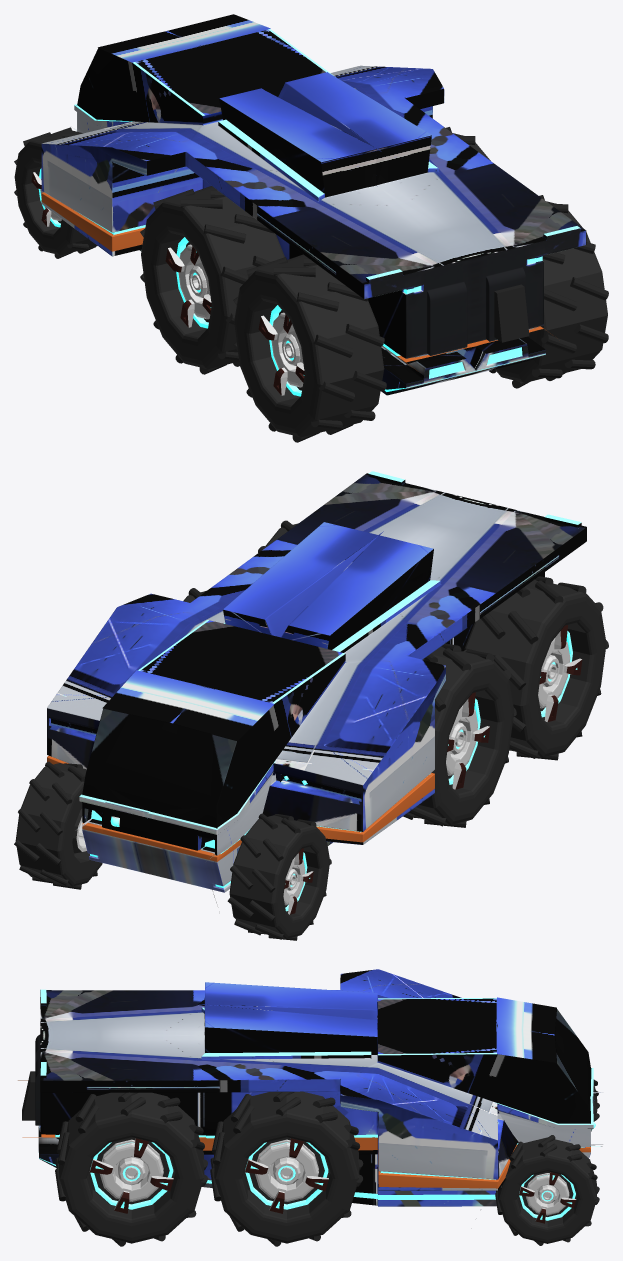
The model's file is farmerCar.glb.
3 renders of one model, top to bottom at view 1: azimuth 30°, elevation 25°; view 2: azimuth 150°, elevation 25°; view 3: azimuth 270°, elevation 25°, orthographic. The views are drawn at different scales.
Visible parts, largest first — view 1: body, wheelR.002, wheelR.004, wheelR.003, wheelFL.001, Cube.004; view 2: body, wheelR.002, wheelR.004, wheelFL.001, wheelFR.002; view 3: body, wheelR.003, wheelR.001, wheelFR.002, Cube.004.
Boxes of the visible parts, x1,y1,x2,y2 form: body: [41, 14, 586, 395]; wheelR.002: [233, 254, 386, 442]; wheelR.004: [140, 186, 284, 374]; wheelR.003: [489, 195, 608, 388]; wheelFL.001: [14, 127, 97, 258]; Cube.004: [494, 284, 529, 342]; body: [47, 471, 586, 902]; wheelR.002: [463, 576, 608, 760]; wheelR.004: [403, 643, 516, 827]; wheelFL.001: [227, 813, 331, 940]; wheelFR.002: [14, 761, 102, 889]; body: [18, 969, 603, 1206]; wheelR.003: [55, 1092, 207, 1246]; wheelR.001: [210, 1091, 363, 1246]; wheelFR.002: [495, 1135, 599, 1245]; Cube.004: [22, 1071, 35, 1120].
Size of what is drawn, in the model's own units: 10.94 by 8.8 by 21.04.
Materials: 9 (2 with a texture image).
